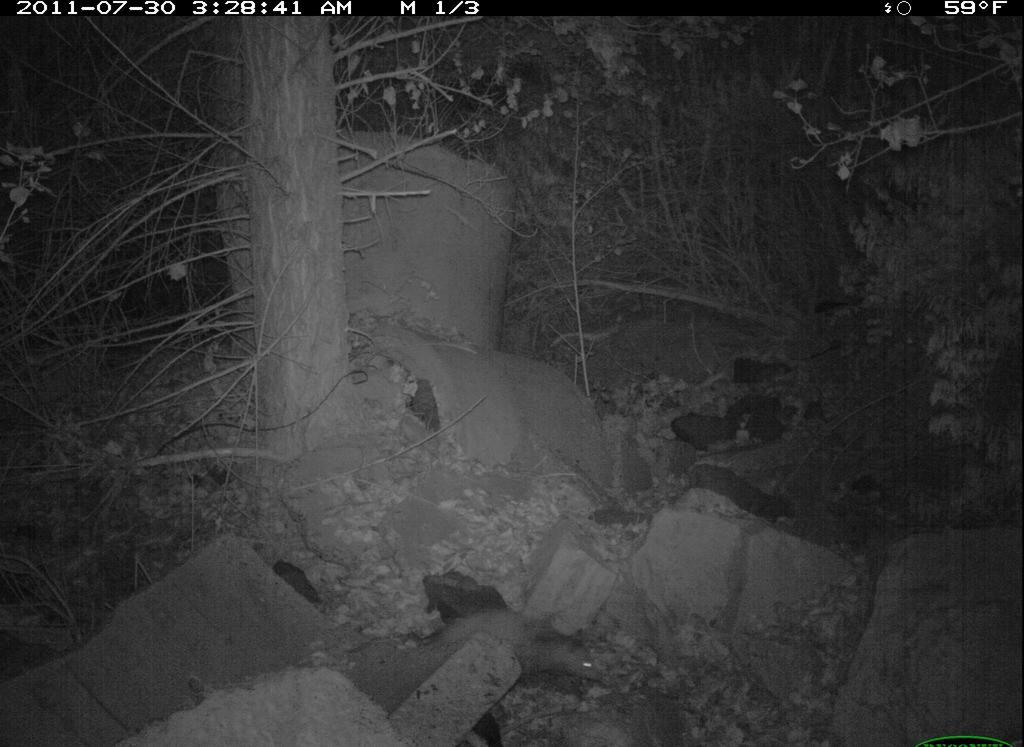opossum: (446, 609, 607, 693)
